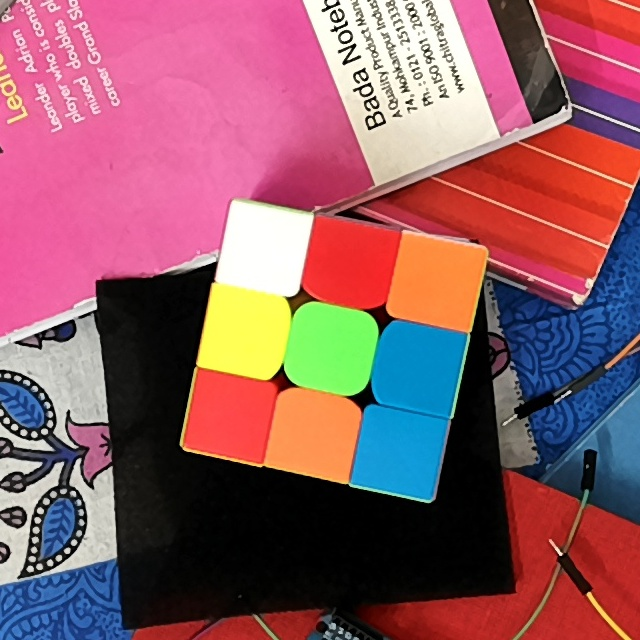tile: (316, 234, 387, 298), (403, 248, 471, 314), (281, 403, 348, 469), (232, 215, 297, 282), (366, 420, 434, 482), (196, 386, 266, 445), (299, 320, 366, 381), (216, 300, 277, 364), (387, 336, 448, 396)
